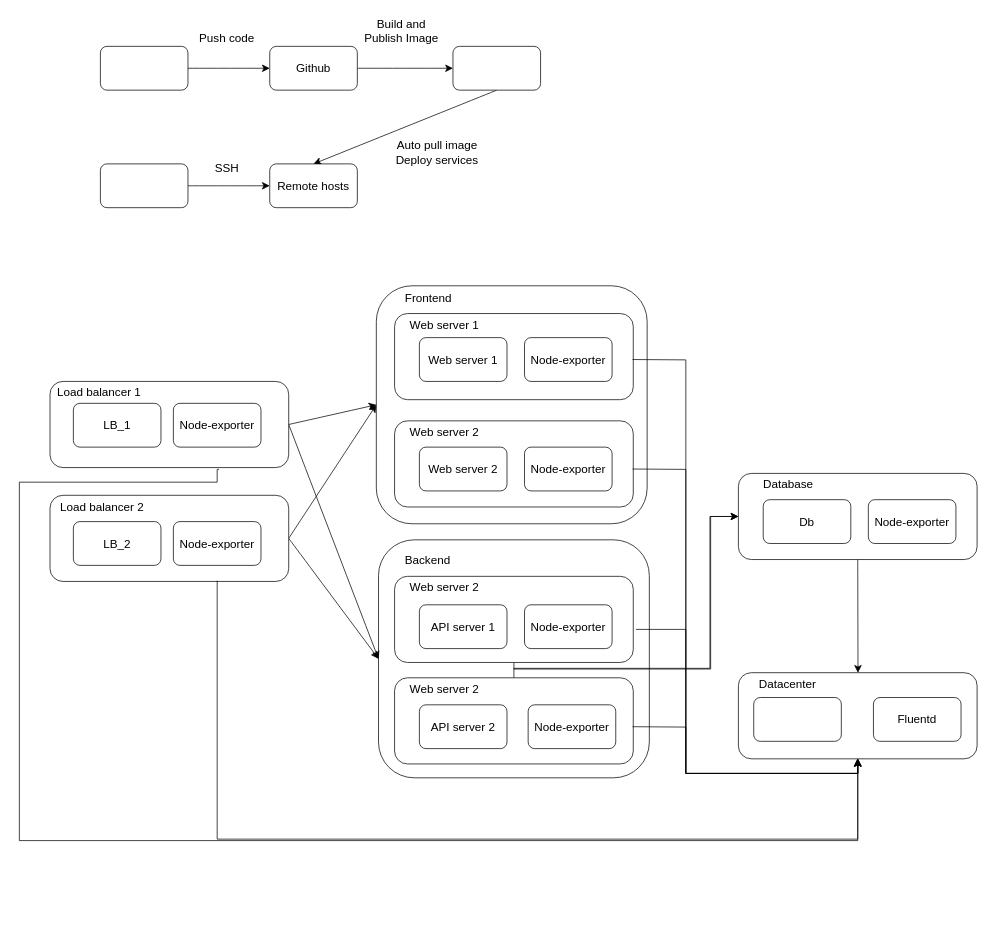
This 990x932 diagram has some shape labels left out. The centre of each missing label's shape, as x and y in pixels:
"Ansible" goes at (144,185).
"Dockerhub" goes at (496,68).
"Local" goes at (144,68).
"Prometheus" goes at (797,719).
